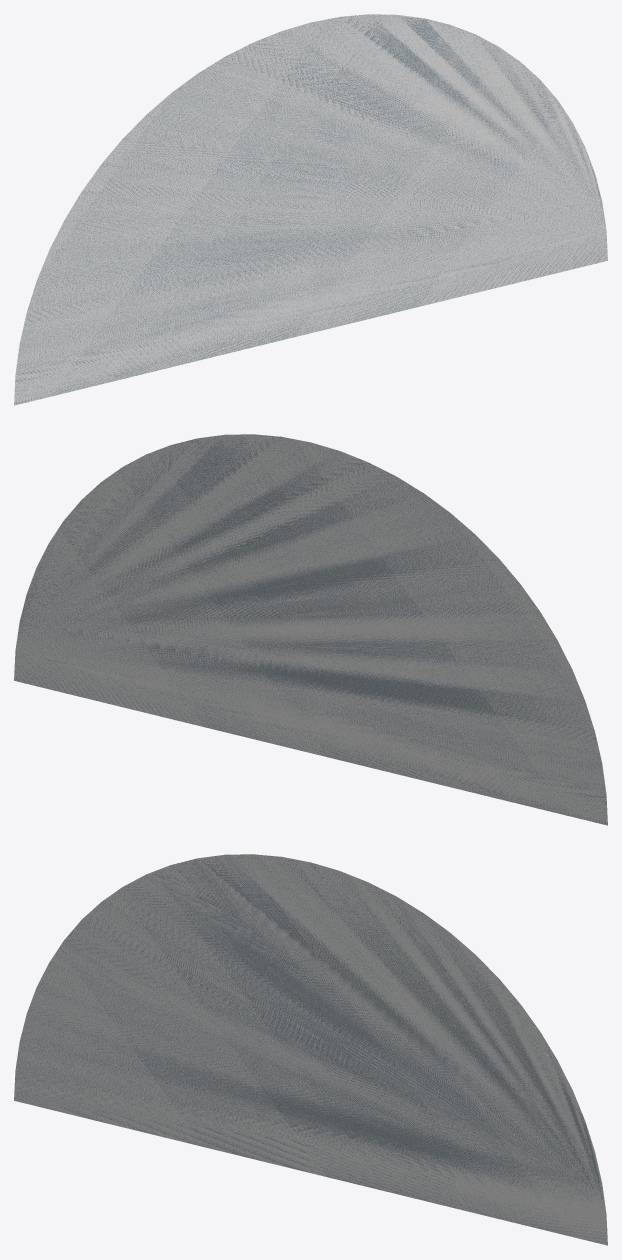
File: Hemi_round_64.obj
The picture shows the model from 3 angles, top to bottom: view 1: azimuth 30°, elevation 25°; view 2: azimuth 150°, elevation 25°; view 3: azimuth 330°, elevation 25°; orthographic projection.
Parts seen in each view (by area): view 1: Mesh1 Model; view 2: Mesh1 Model; view 3: Mesh1 Model.
Boxes of the visible parts, x1,y1,x2,y2 form: Mesh1 Model: (14, 14, 607, 405); Mesh1 Model: (14, 434, 607, 825); Mesh1 Model: (14, 854, 607, 1245).
Size of the model in its own units: 4.48 by 2.24 by 0.
